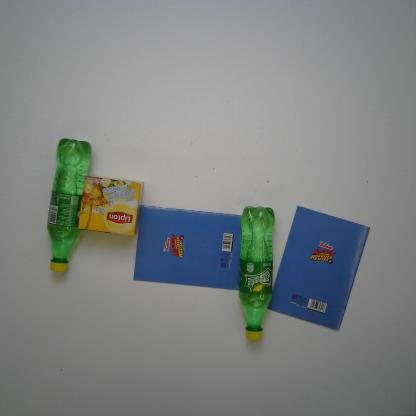Drink: (45, 137, 94, 274), (237, 204, 276, 344)
Instant Drink: (78, 174, 145, 239)
Stationery: (264, 204, 372, 335), (131, 203, 246, 295)
